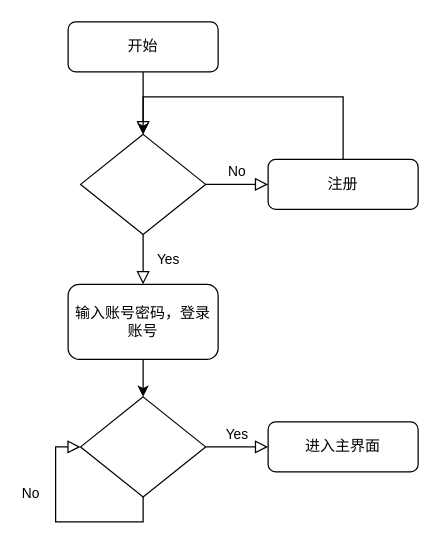
Some shapes in this 440 by 556 pixel diagram are drawn without their labels. The shapes that lost their labels are listed below. From the top down, each one's centre as x and y in pixels, then its label:
(142,183): 是否拥有账户
(142,446): 登录验证是否成功
